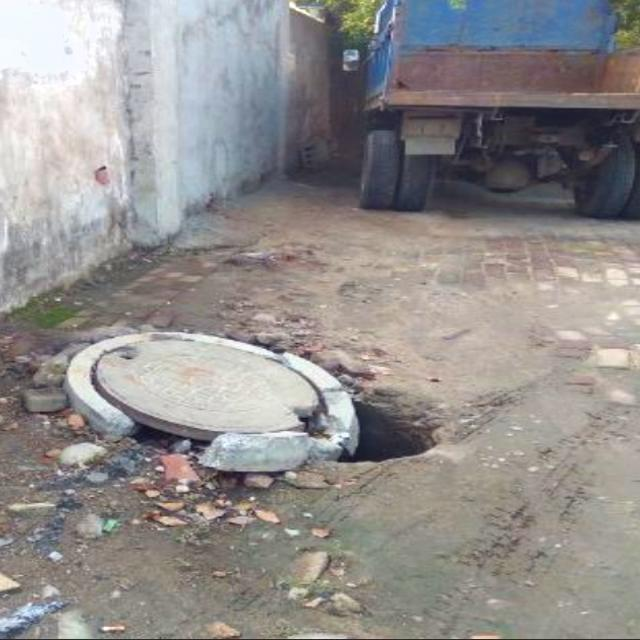circle: (60, 329, 411, 475)
